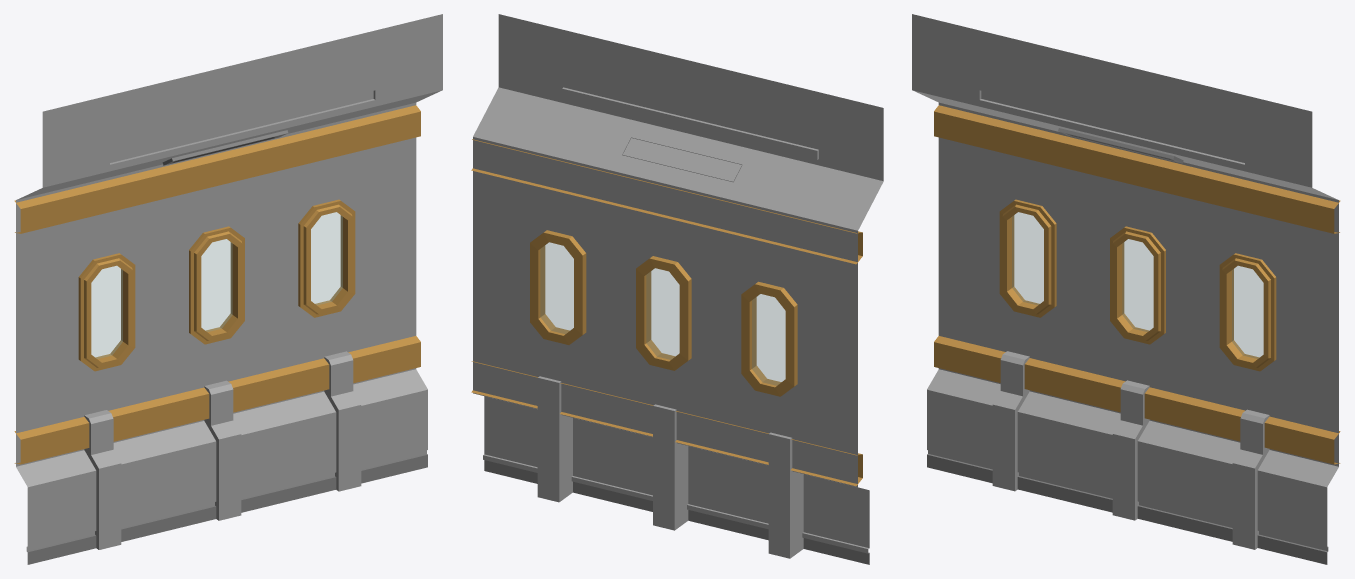
File: ThreeWindows_Wall_SideB.gltf
3 views of the same model, side by side, from view 1: azimuth 30°, elevation 25°; view 2: azimuth 150°, elevation 25°; view 3: azimuth 330°, elevation 25° (orthographic). The views are drawn at different scales.
Parts seen in each view (by area): view 1: ThreeWindows_Wall_SideB; view 2: ThreeWindows_Wall_SideB; view 3: ThreeWindows_Wall_SideB.
Boxes of the visible parts, x1,y1,x2,y2 form: ThreeWindows_Wall_SideB: [14, 14, 442, 564]; ThreeWindows_Wall_SideB: [471, 14, 883, 564]; ThreeWindows_Wall_SideB: [912, 14, 1340, 564].
Bounding box in the file's own units: 4 × 4.43 × 0.5261.
